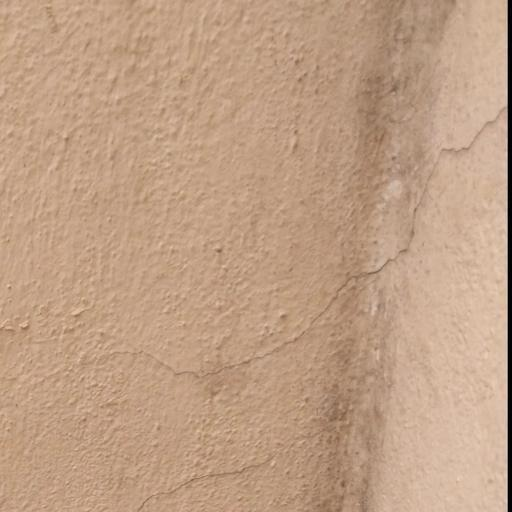minor_crack: (76, 66, 512, 399), (118, 437, 281, 512)
